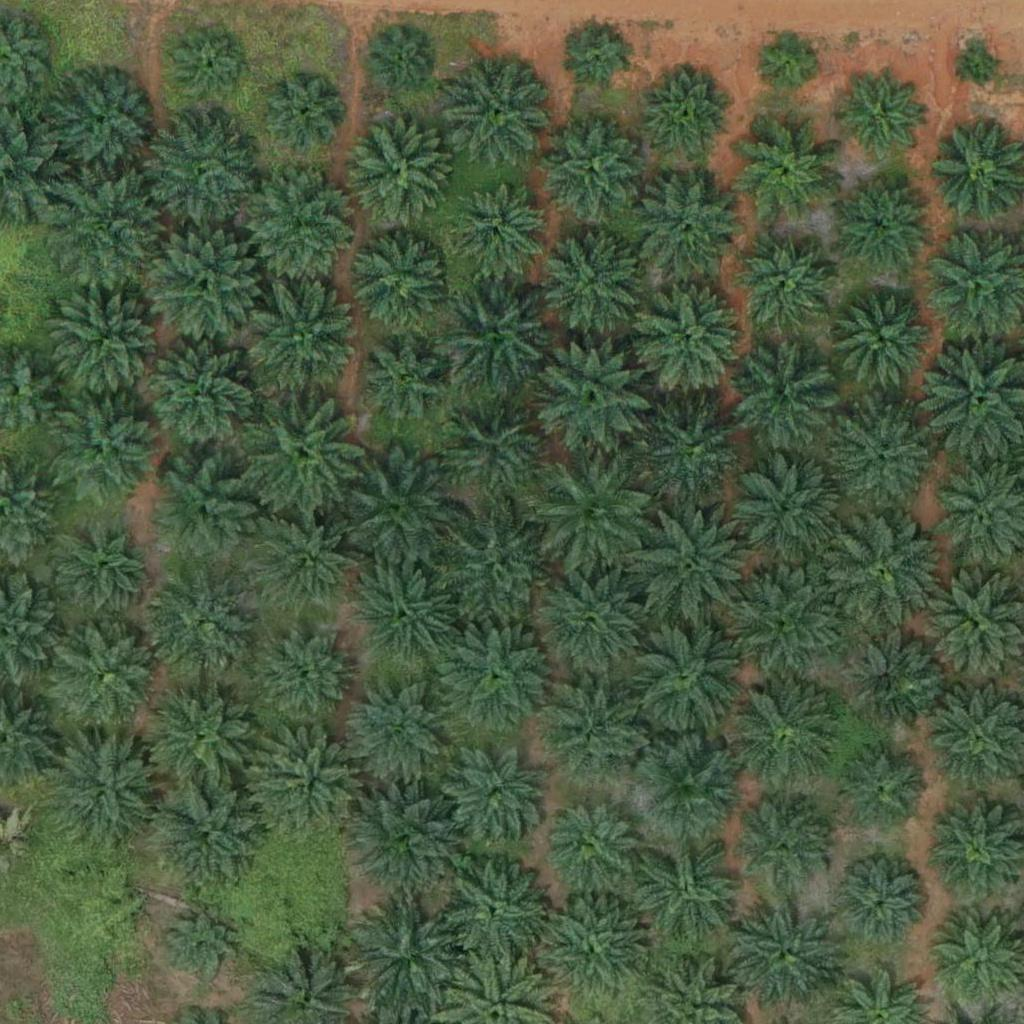Kelapa_Sawit: (46, 169, 171, 295), (140, 334, 265, 460), (241, 276, 366, 402), (240, 391, 365, 517), (336, 447, 461, 573), (432, 267, 557, 393), (431, 386, 556, 512), (431, 502, 556, 628), (532, 336, 657, 462), (530, 454, 655, 580), (627, 502, 752, 628), (623, 616, 748, 742), (530, 556, 655, 682), (433, 613, 558, 739), (346, 895, 471, 1021), (628, 279, 753, 404), (818, 510, 943, 635), (725, 559, 850, 684), (725, 672, 850, 797), (52, 287, 165, 401), (351, 777, 464, 891), (144, 572, 257, 686), (50, 392, 163, 505), (43, 510, 156, 623), (144, 458, 257, 571), (244, 169, 357, 282), (630, 838, 743, 951), (254, 732, 367, 845), (144, 681, 257, 794), (148, 782, 261, 895), (147, 225, 259, 339), (252, 504, 364, 618), (536, 890, 648, 1004), (438, 744, 550, 858), (439, 851, 551, 965), (142, 110, 254, 223), (730, 903, 842, 1016), (49, 621, 161, 734), (48, 735, 160, 848), (349, 119, 449, 220), (348, 234, 448, 335), (451, 60, 551, 161), (445, 181, 545, 282), (542, 117, 642, 218), (542, 229, 642, 330), (637, 174, 737, 275), (645, 401, 745, 502), (739, 121, 839, 222), (734, 236, 834, 337), (735, 350, 835, 451), (739, 454, 839, 555), (831, 173, 931, 274), (833, 289, 933, 390), (830, 405, 930, 506), (839, 628, 939, 729), (736, 796, 836, 897), (639, 737, 739, 838), (548, 680, 648, 781), (50, 73, 150, 173), (355, 330, 455, 430), (354, 561, 454, 661), (345, 682, 445, 782), (252, 628, 352, 728), (836, 748, 924, 837), (836, 73, 924, 161), (833, 860, 921, 948), (648, 70, 735, 158), (549, 801, 636, 889), (171, 31, 246, 107), (268, 75, 343, 150), (164, 908, 239, 983), (369, 29, 432, 92), (569, 27, 631, 90), (755, 28, 817, 91), (962, 48, 999, 86)
